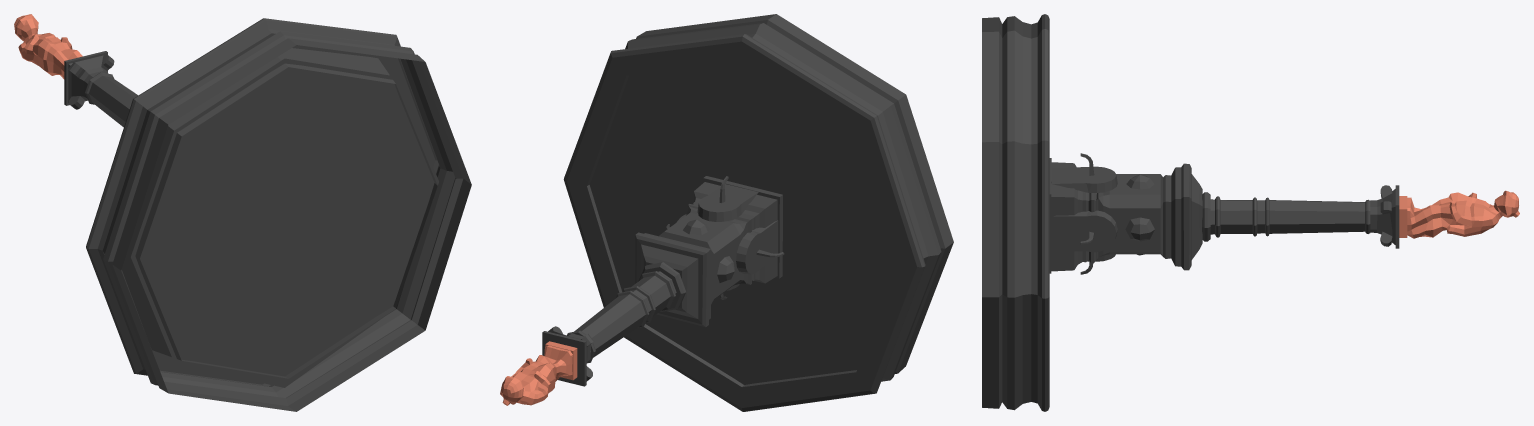
The model's file is nouveau-lieu-3_v001.glb.
3 renders of one model, left to right at view 1: azimuth 30°, elevation 25°; view 2: azimuth 150°, elevation 25°; view 3: azimuth 270°, elevation 25°, orthographic. The views are drawn at different scales.
Visible parts, largest first — view 1: LIEU_nouveau-lieu-3_v001; view 2: LIEU_nouveau-lieu-3_v001; view 3: LIEU_nouveau-lieu-3_v001.
Part boxes in pixels (bbox=[...]): LIEU_nouveau-lieu-3_v001: bbox=[14, 14, 471, 411]; LIEU_nouveau-lieu-3_v001: bbox=[500, 14, 953, 411]; LIEU_nouveau-lieu-3_v001: bbox=[982, 14, 1519, 411].
Bounding box in the file's own units: 0.7573 × 0.7573 × 0.9995.
